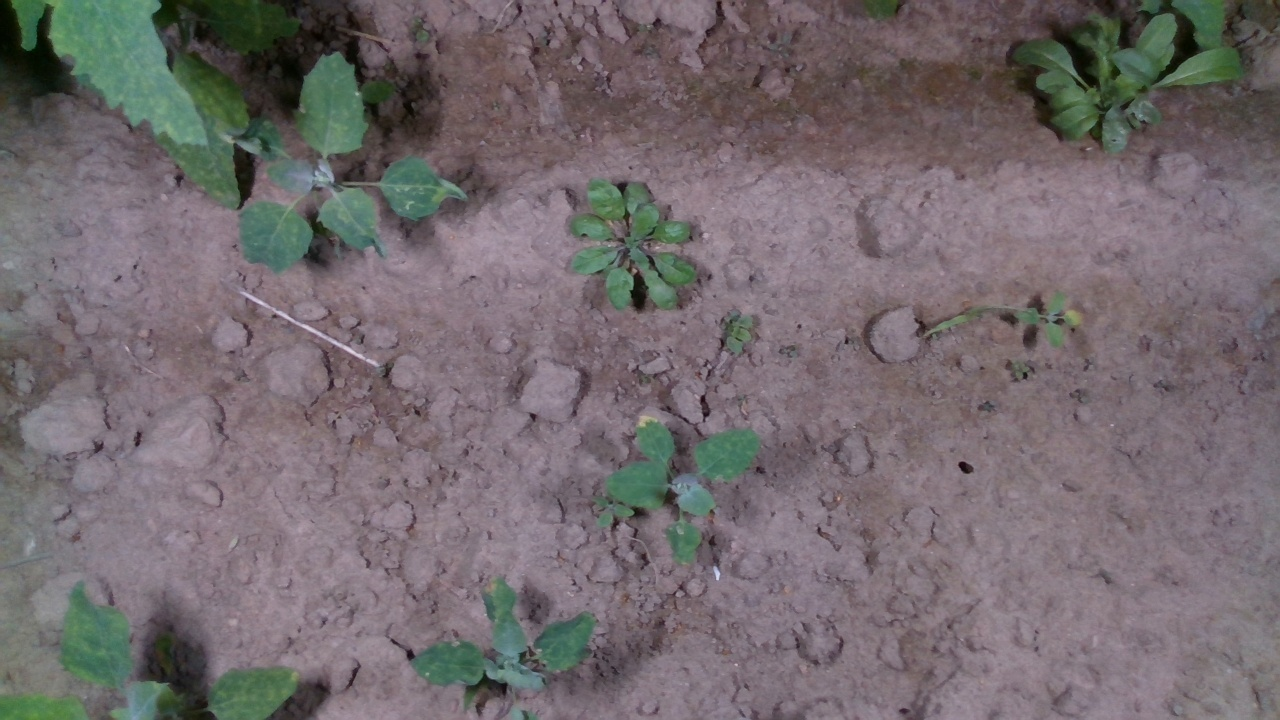weed: (718, 310, 750, 358), (1010, 358, 1030, 381)
